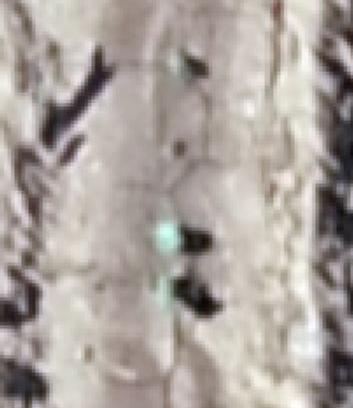cotton: (156, 277, 179, 307), (158, 225, 183, 252), (171, 54, 189, 77)
